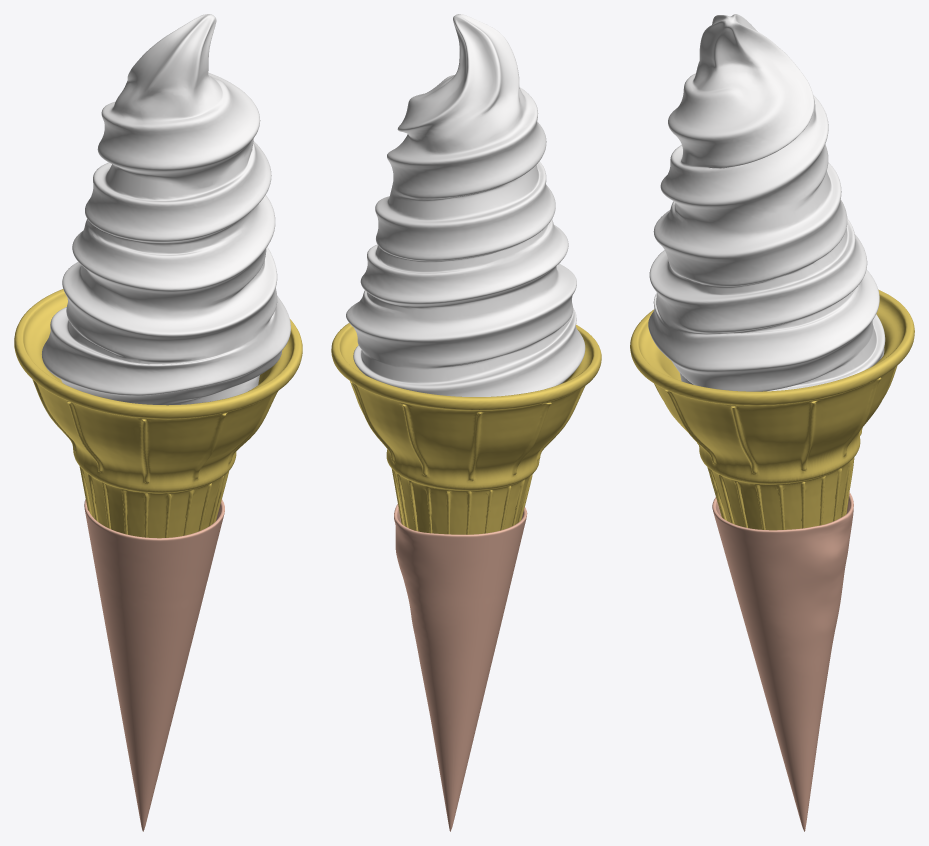
The model's file is icecream.glb.
3 views of the same model, side by side, from view 1: azimuth 30°, elevation 25°; view 2: azimuth 150°, elevation 25°; view 3: azimuth 270°, elevation 25° (orthographic). The views are drawn at different scales.
Visible parts, largest first — view 1: ice4_0, coon2_1, kami1_2; view 2: ice4_0, coon2_1, kami1_2; view 3: ice4_0, coon2_1, kami1_2.
Part boxes in pixels (x1,y1,x2,y2): ice4_0: (42, 14, 290, 405); coon2_1: (14, 289, 302, 538); kami1_2: (84, 499, 224, 831); ice4_0: (346, 14, 585, 396); coon2_1: (331, 323, 601, 534); kami1_2: (394, 504, 527, 831); ice4_0: (648, 14, 885, 391); coon2_1: (630, 289, 914, 530); kami1_2: (712, 492, 853, 831).
Size of the model in its own units: 0.0736 by 0.2357 by 0.0735.
Materials: 3 (3 with a texture image).
